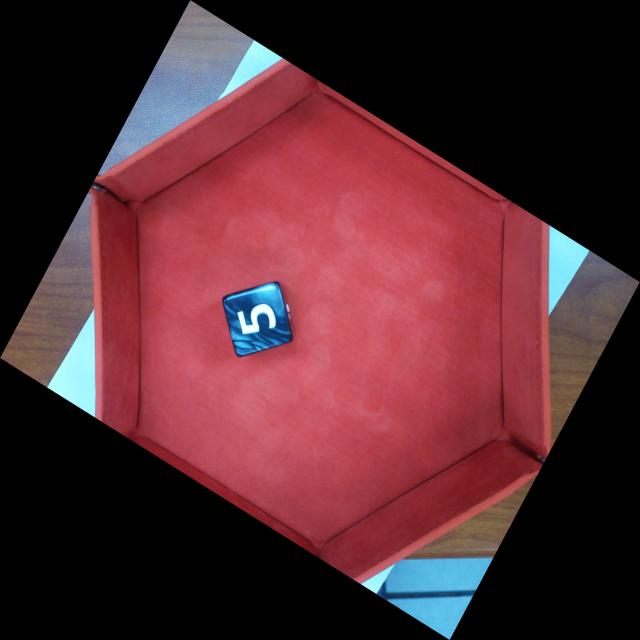dice: (226, 281, 294, 354)
